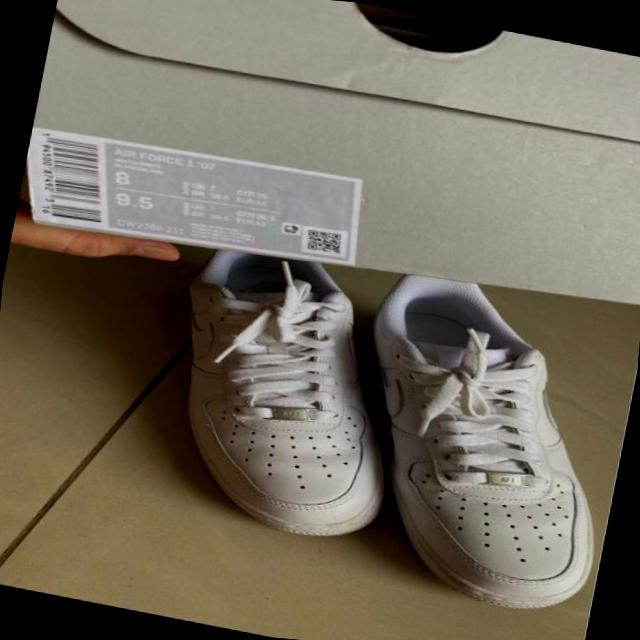nike_original_airforce: (313, 267, 640, 623), (134, 238, 432, 555)
